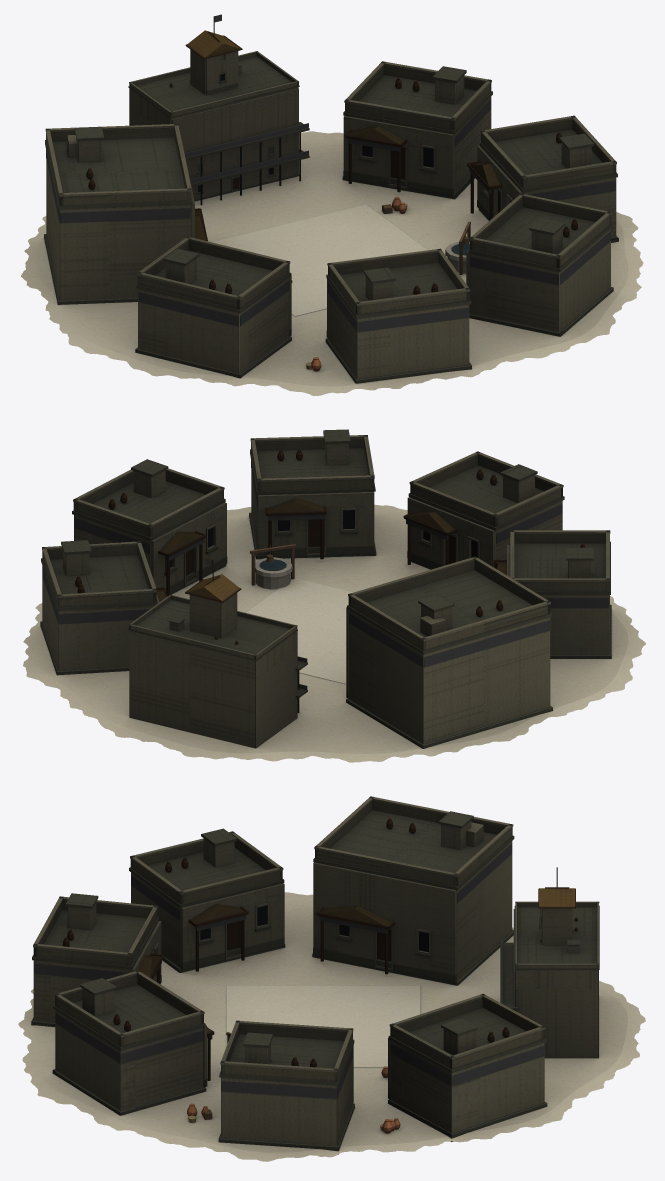
File: gunpowder-town-small-a-eastafrica.glb
The picture shows the model from 3 angles, top to bottom: view 1: azimuth 30°, elevation 25°; view 2: azimuth 150°, elevation 25°; view 3: azimuth 270°, elevation 25°; orthographic projection.
Visible parts, largest first — view 1: LOD0; view 2: LOD0; view 3: LOD0.
Part boxes in pixels (<box>): LOD0: <box>21,14,643,395</box>; LOD0: <box>23,429,645,762</box>; LOD0: <box>18,796,645,1161</box>.
Size of what is drawn, in the model's own units: 4.03 by 1.12 by 3.95.
3 materials, 3 textured.
